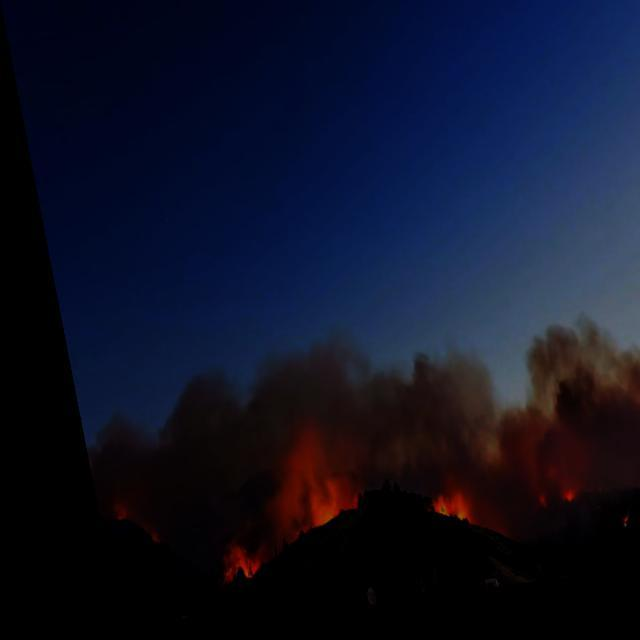Fire: (188, 547, 242, 594), (409, 499, 450, 542), (289, 510, 320, 535), (126, 526, 140, 548), (597, 528, 609, 544), (540, 503, 551, 515)
